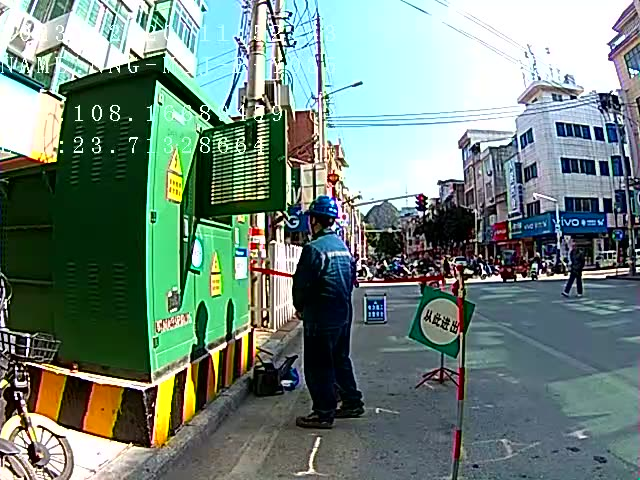halt: (309, 198, 342, 235)
inear: (311, 217, 324, 234)
